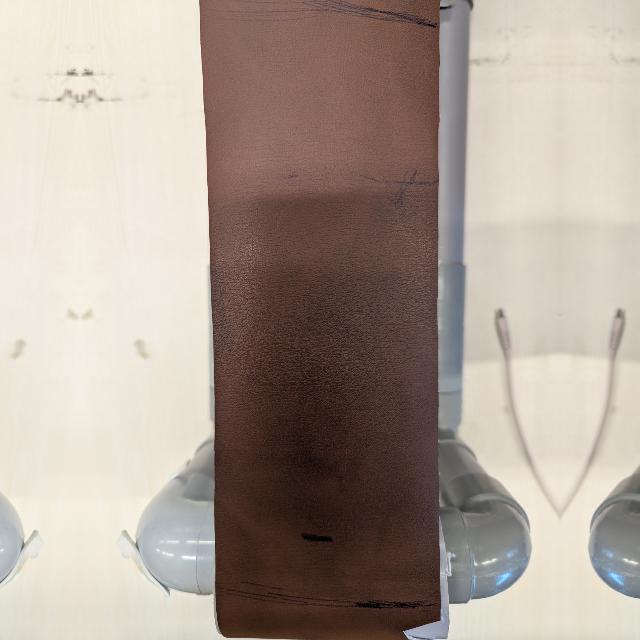belt_tear: (402, 606, 451, 640)
